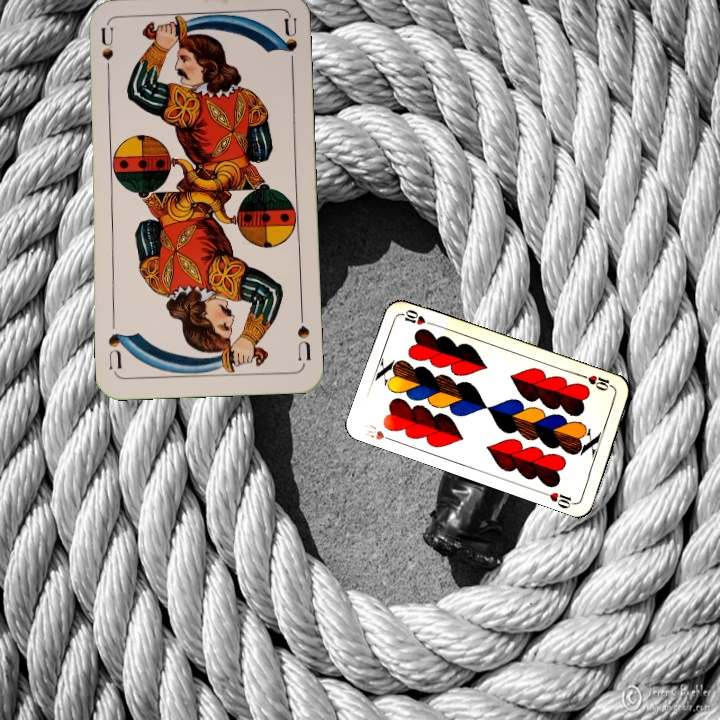H10: (361, 420, 398, 445), (578, 371, 617, 393)
SU: (293, 308, 314, 363), (97, 25, 116, 84)
